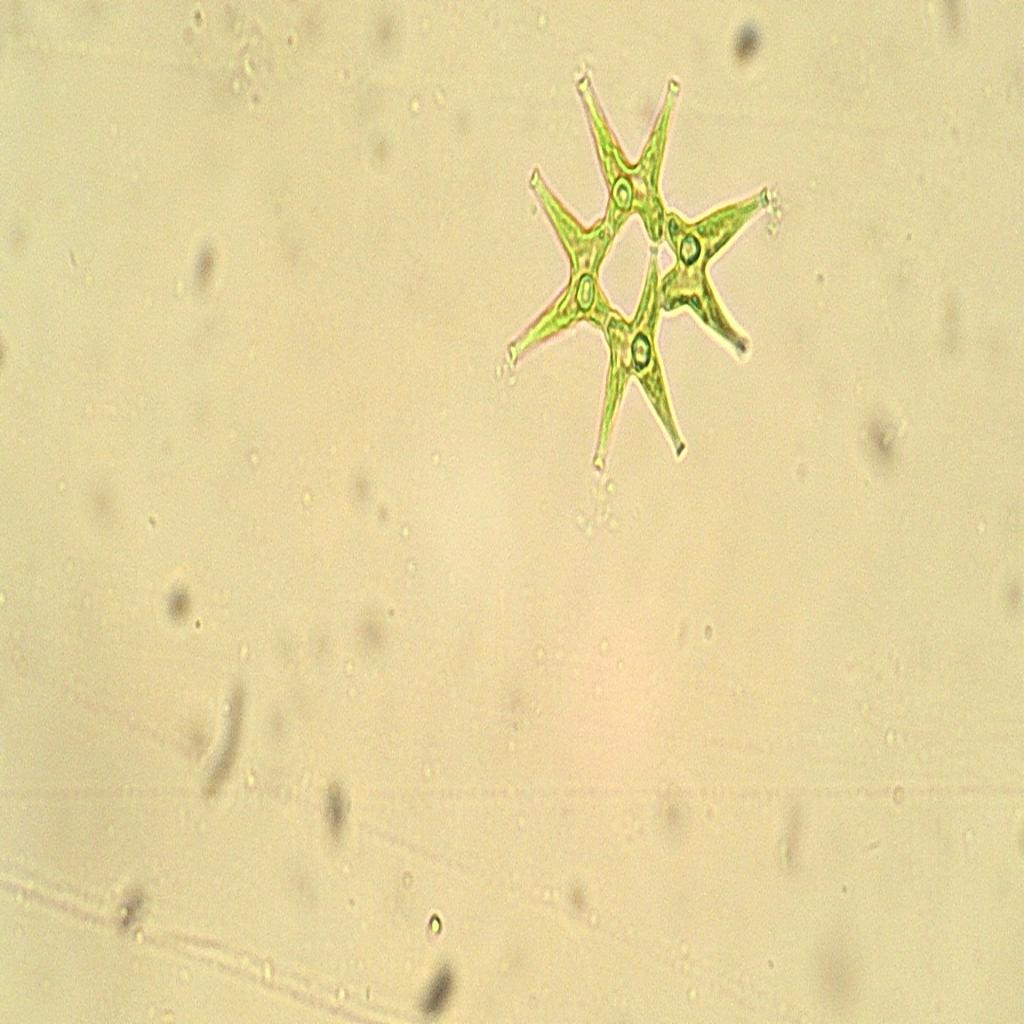Pediastrum_75FO: (488, 42, 790, 497)
